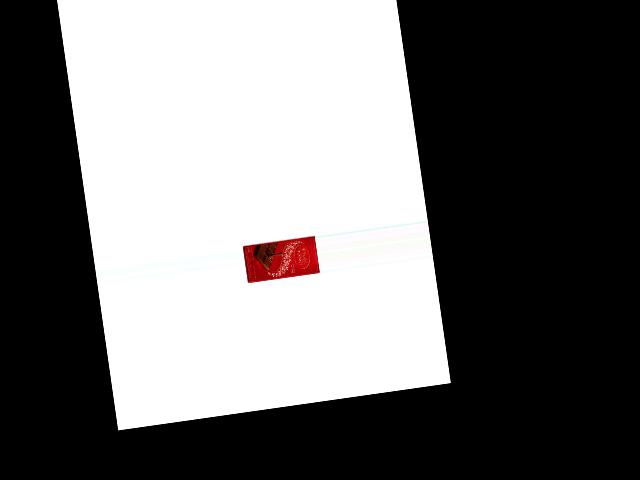chocolate: (242, 232, 319, 284)
